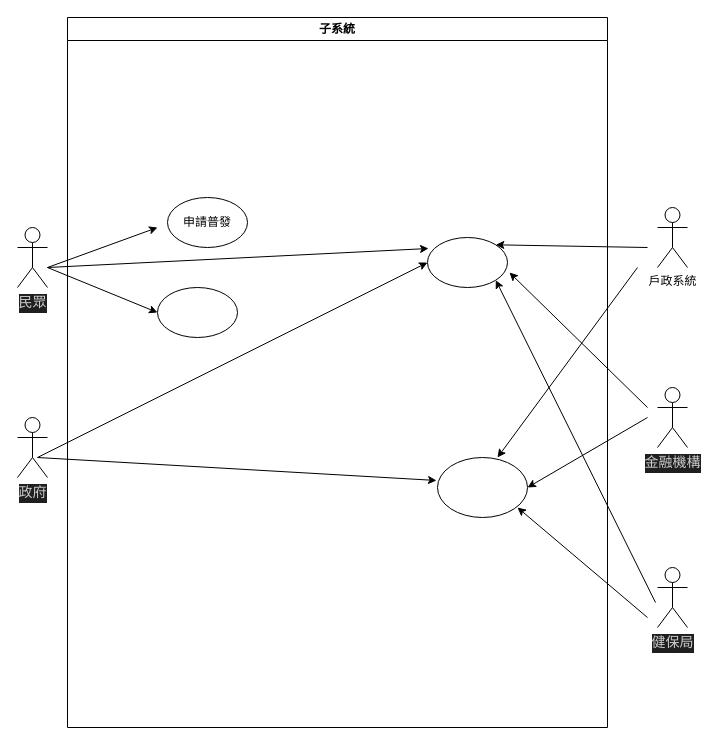
The diagram is 718 pixels wide and 745 high, and some of its shapes have lost their labels. Each missing label, with the centre of its shape:
"傳送合格資料" belongs at (482,487).
"填寫個人資料" belongs at (197,312).
"審核資料" belongs at (467,262).
